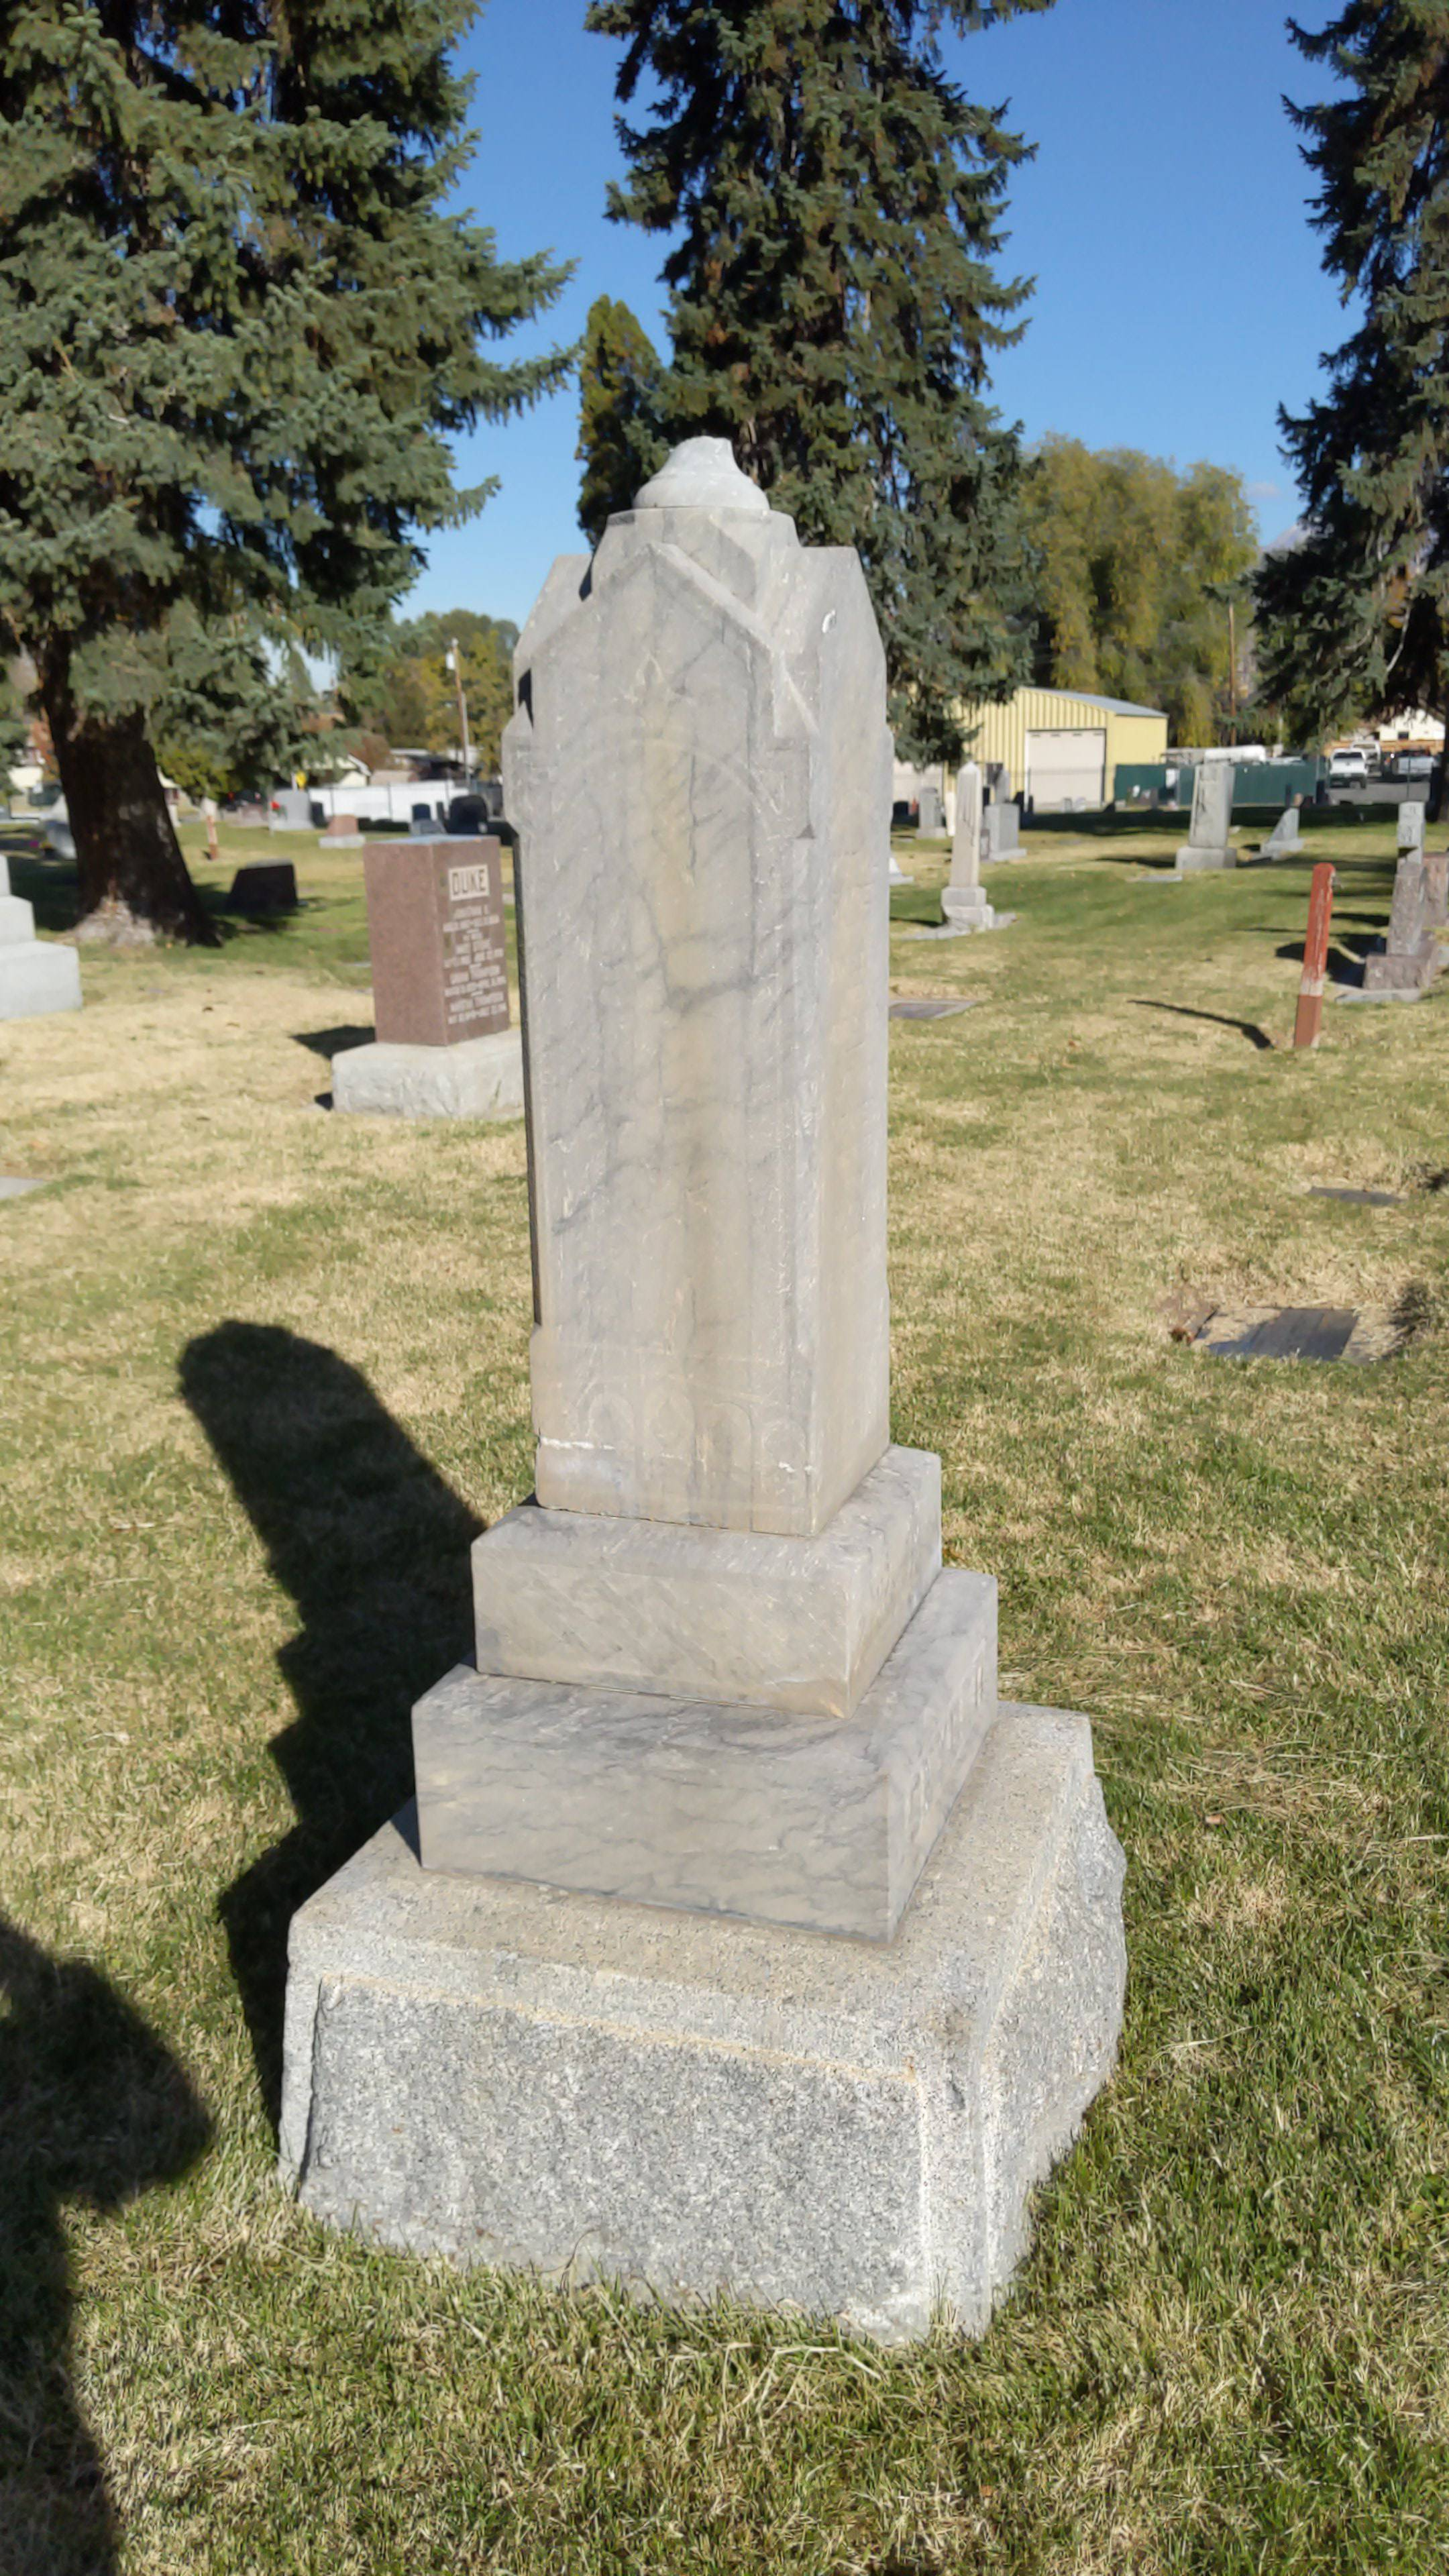obelisk: (419, 444, 994, 1957)
